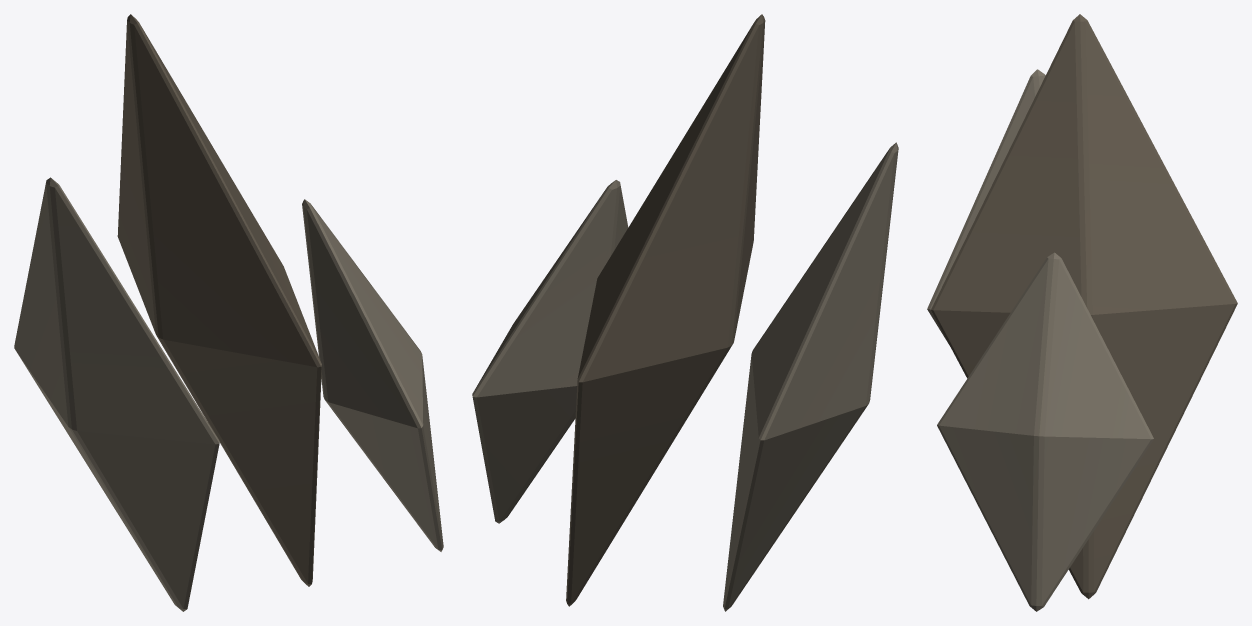
File: prop_rib.glb
3 views of the same model, side by side, from view 1: azimuth 30°, elevation 25°; view 2: azimuth 150°, elevation 25°; view 3: azimuth 270°, elevation 25° (orthographic). The views are drawn at different scales.
Parts seen in each view (by area): view 1: prop_rib_part_0; view 2: prop_rib_part_0; view 3: prop_rib_part_0.
Part boxes in pixels (<box>): prop_rib_part_0: <box>14,14,443,611</box>; prop_rib_part_0: <box>472,14,898,611</box>; prop_rib_part_0: <box>927,14,1237,611</box>.
Bounding box in the file's own units: 2.88 × 4.36 × 2.4.
